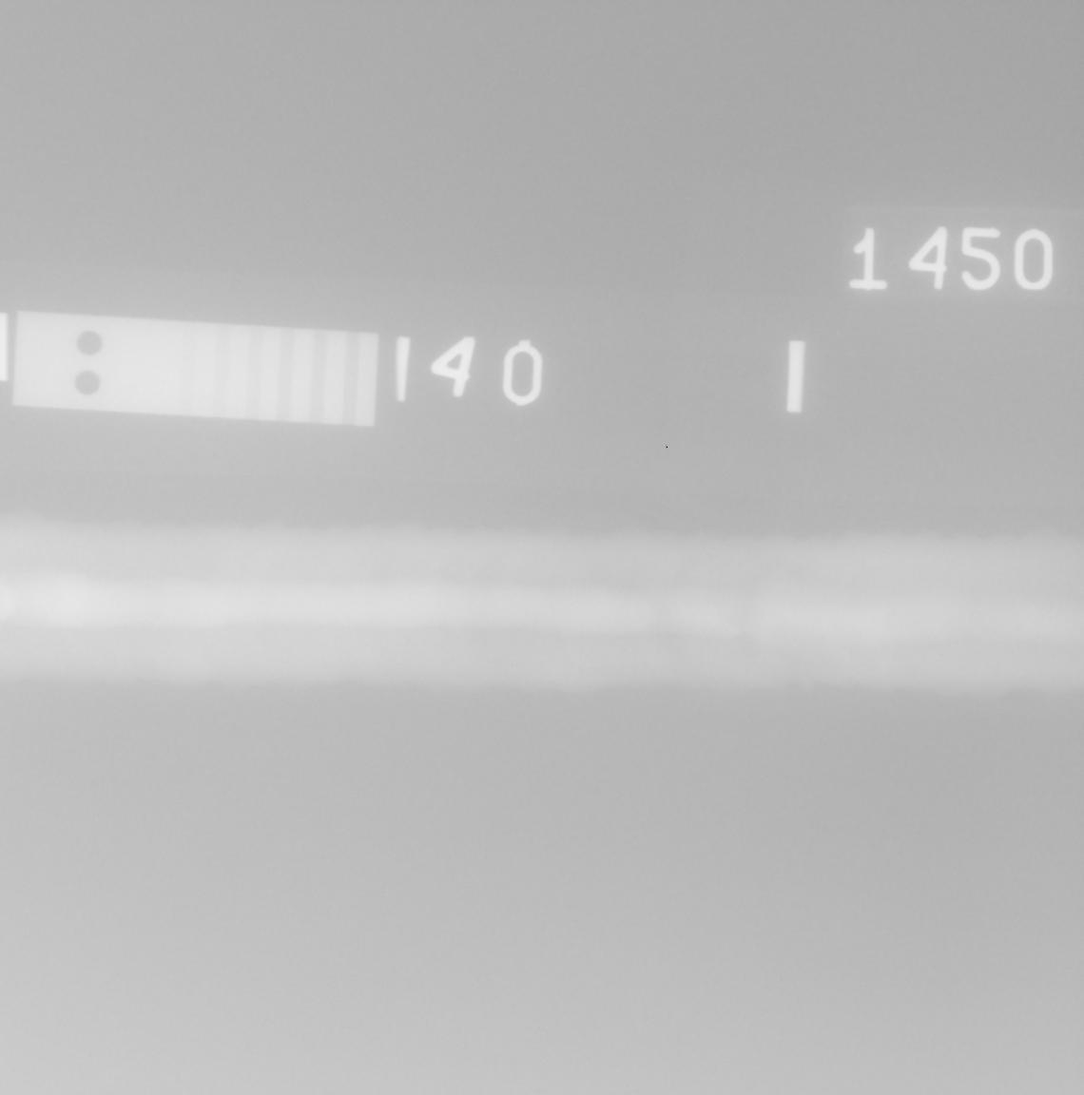Reference Standard 2: (12, 310, 379, 427)
